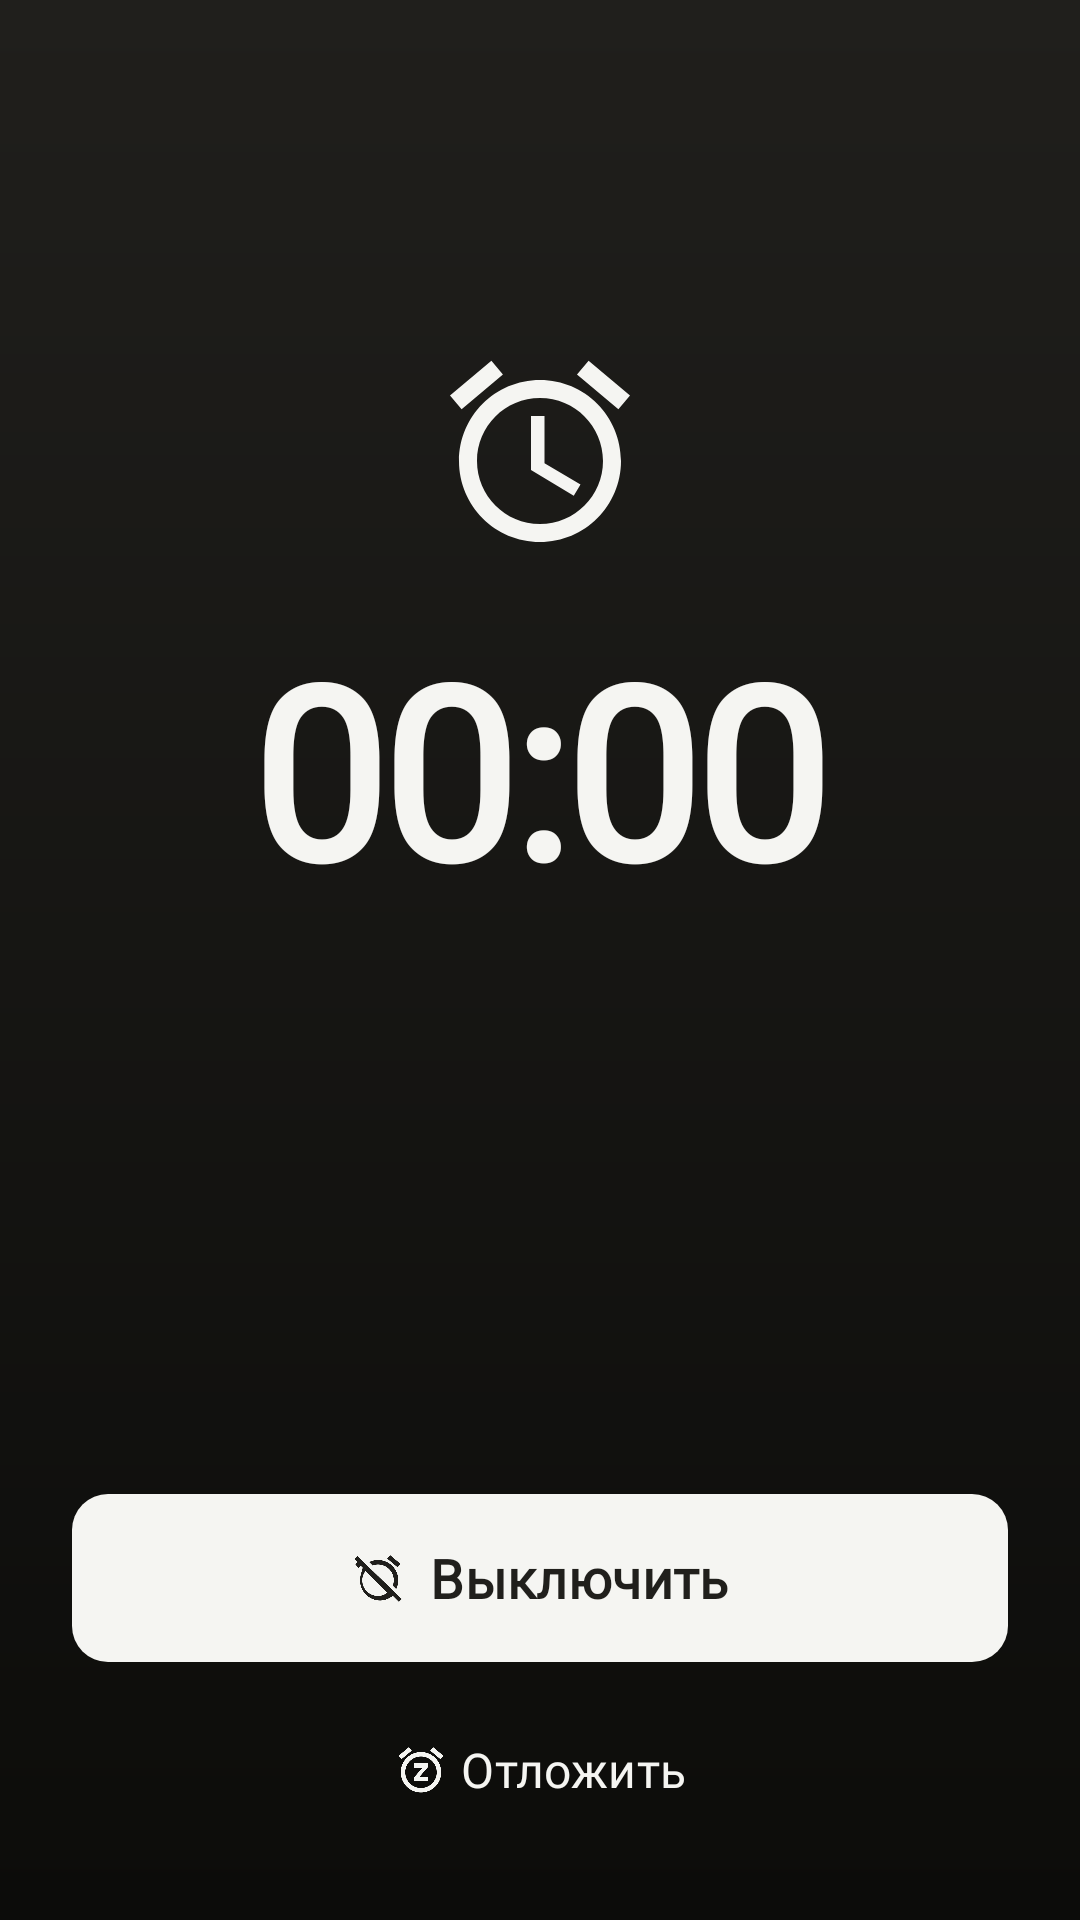

Icon bounding boxes for this 1080px×1920px phone screenshot, format [x1, y1, x2, y2]:
Будильник!: [450, 361, 630, 542]
